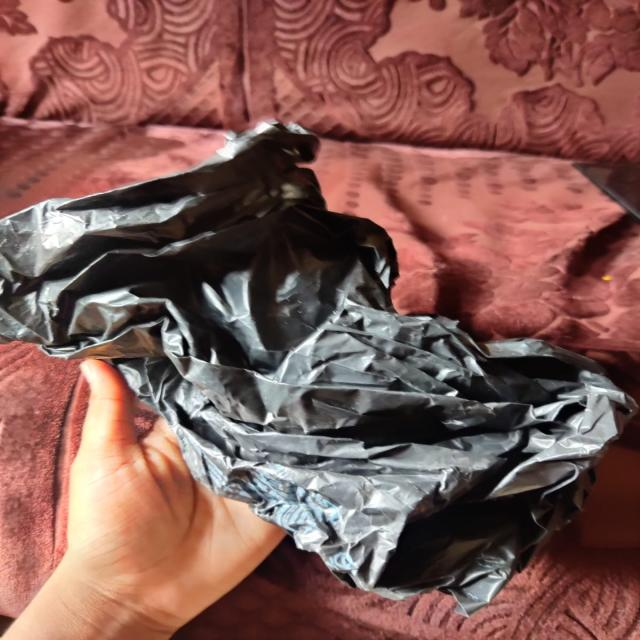Dry: (22, 71, 639, 612)
